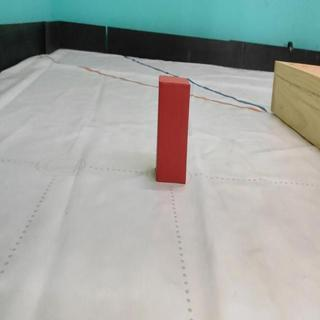redbox: (156, 75, 191, 185)
